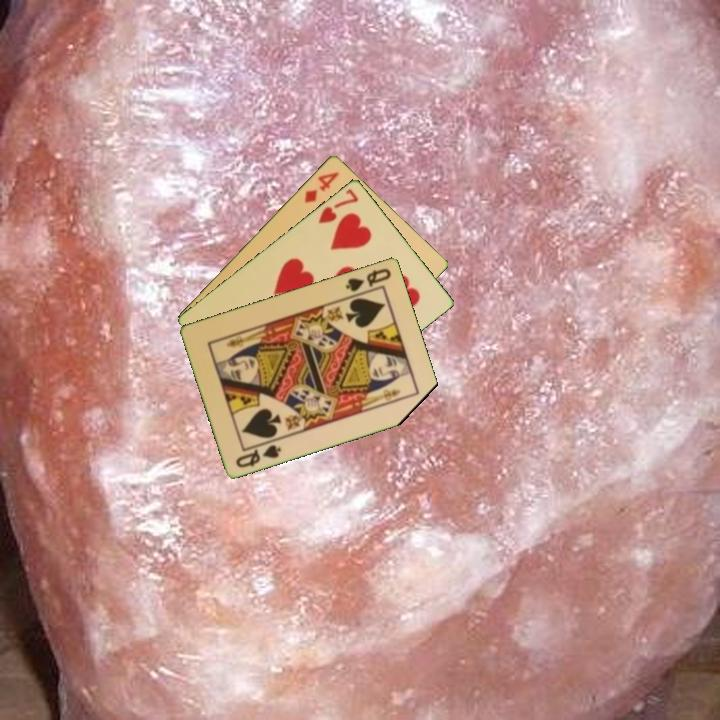4d: (300, 168, 342, 205)
7h: (314, 185, 362, 226)
Qs: (232, 436, 284, 470), (342, 264, 394, 294)
